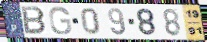0: (79, 6, 103, 36)
8: (136, 7, 158, 37), (162, 8, 182, 37)
9: (107, 7, 127, 37)
B: (20, 5, 48, 36)
G: (48, 6, 73, 36)
